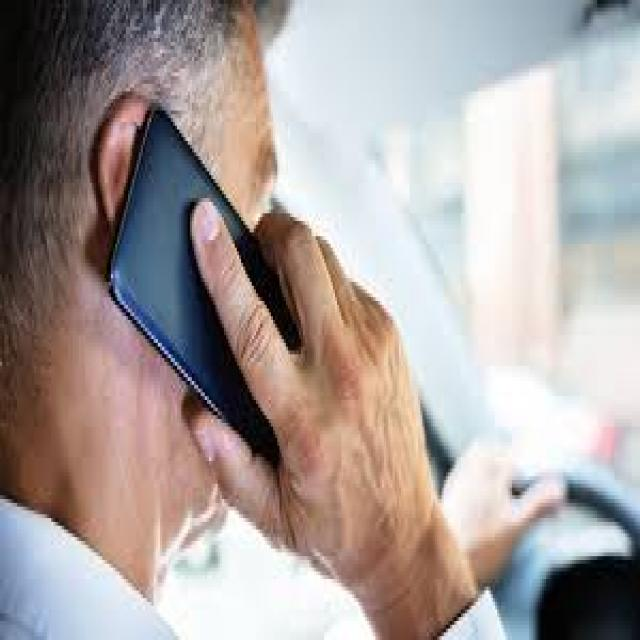Cellphone_calling: (88, 91, 435, 586)
